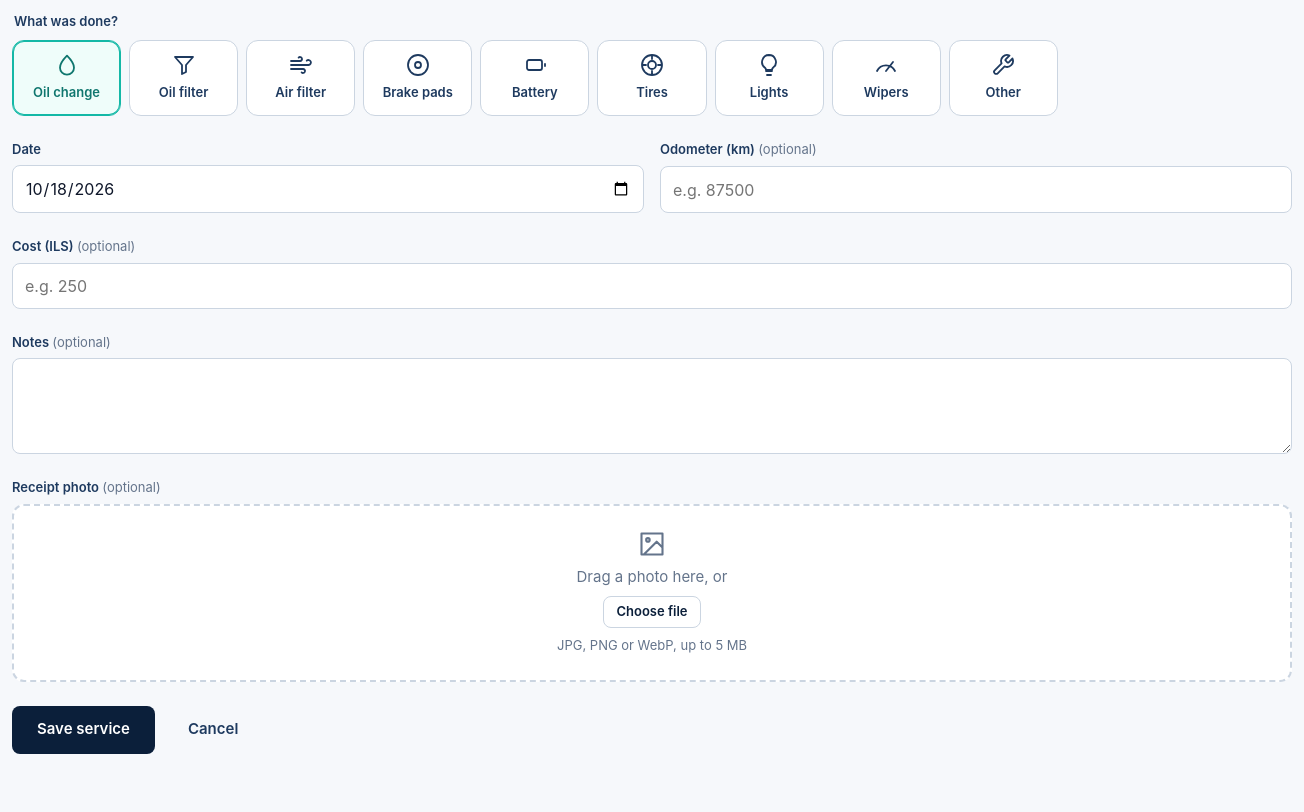
Test case: ServiceForm validation › rejects an absurd odometer and cost
Type "8750000" into the number field labelled "Odometer (km) (optional)" at [976, 190], box [660,166,1292,213]
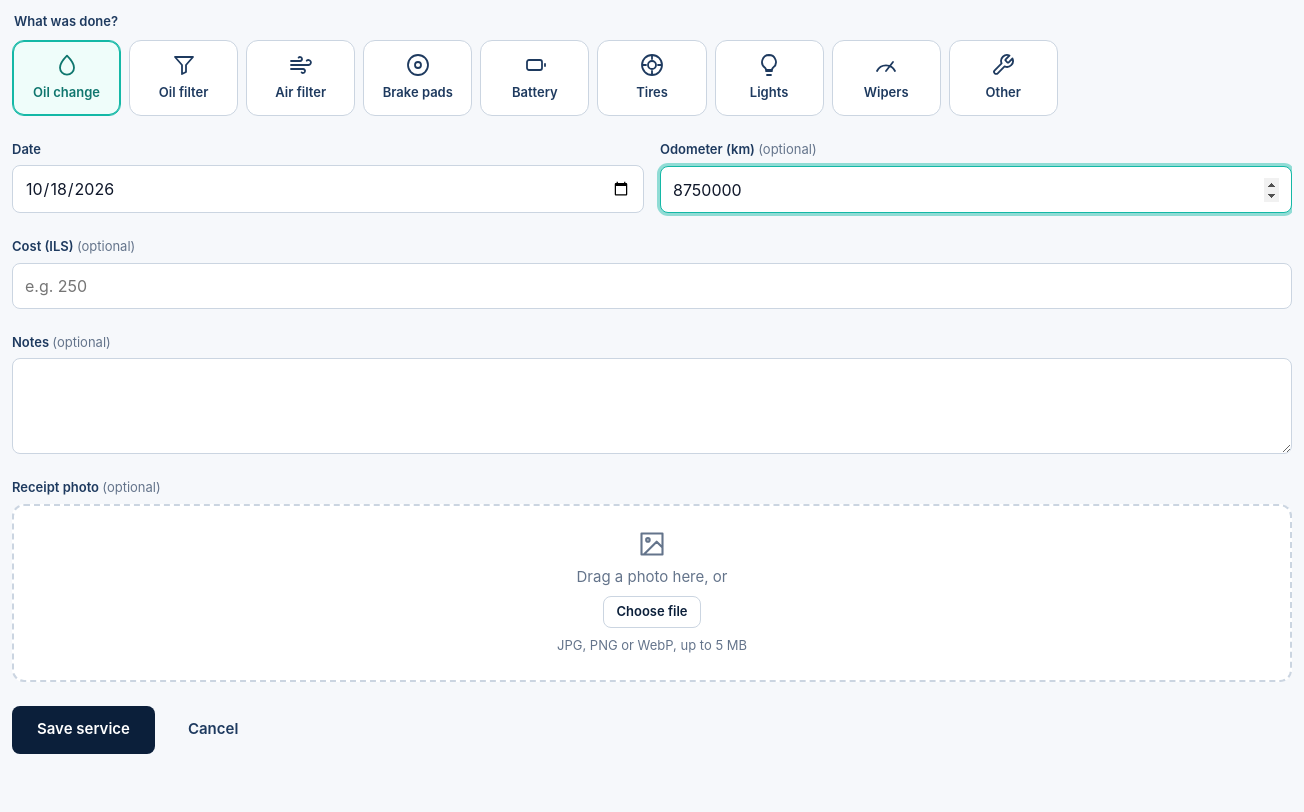
Type "999999999999" into the number field labelled "Cost (ILS) (optional)" at [652, 286], box [12,262,1292,308]
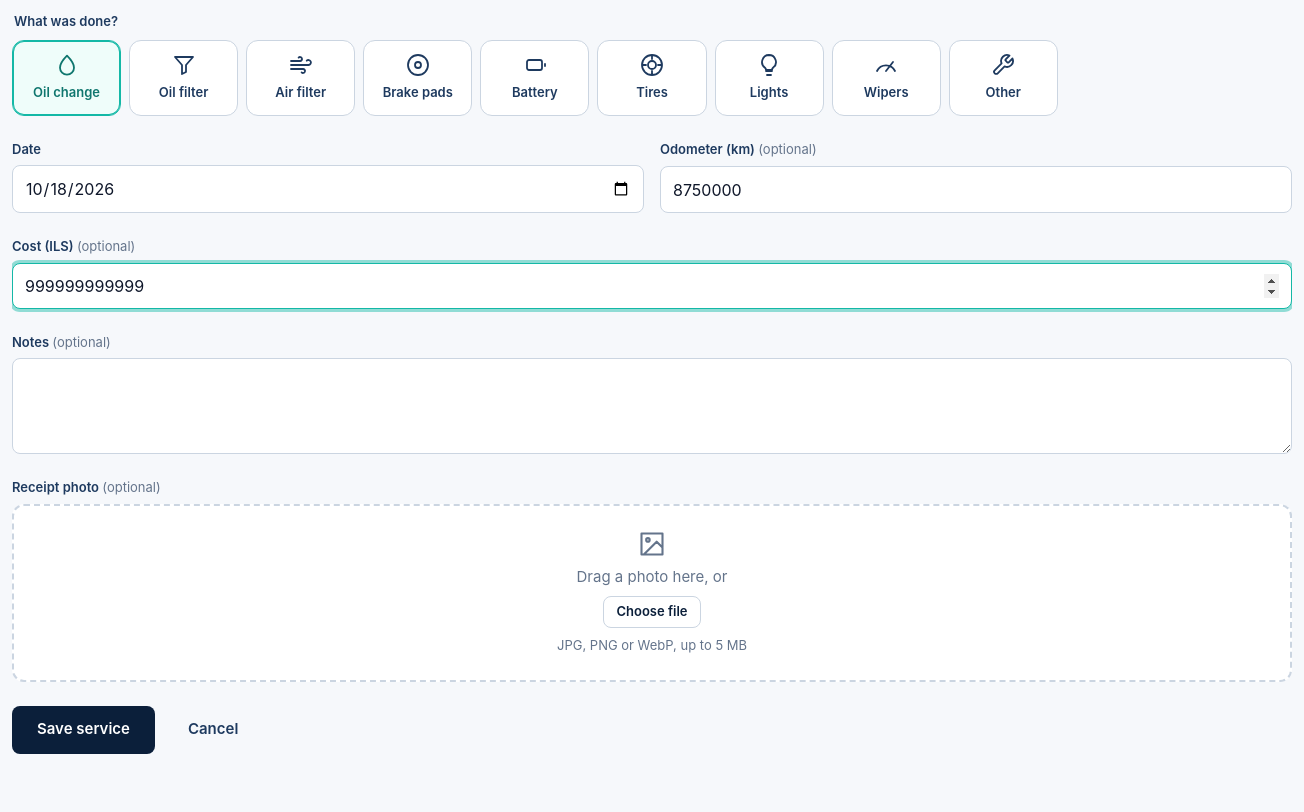
Click the button "Save service" at [83, 730], box [12,706,155,754]
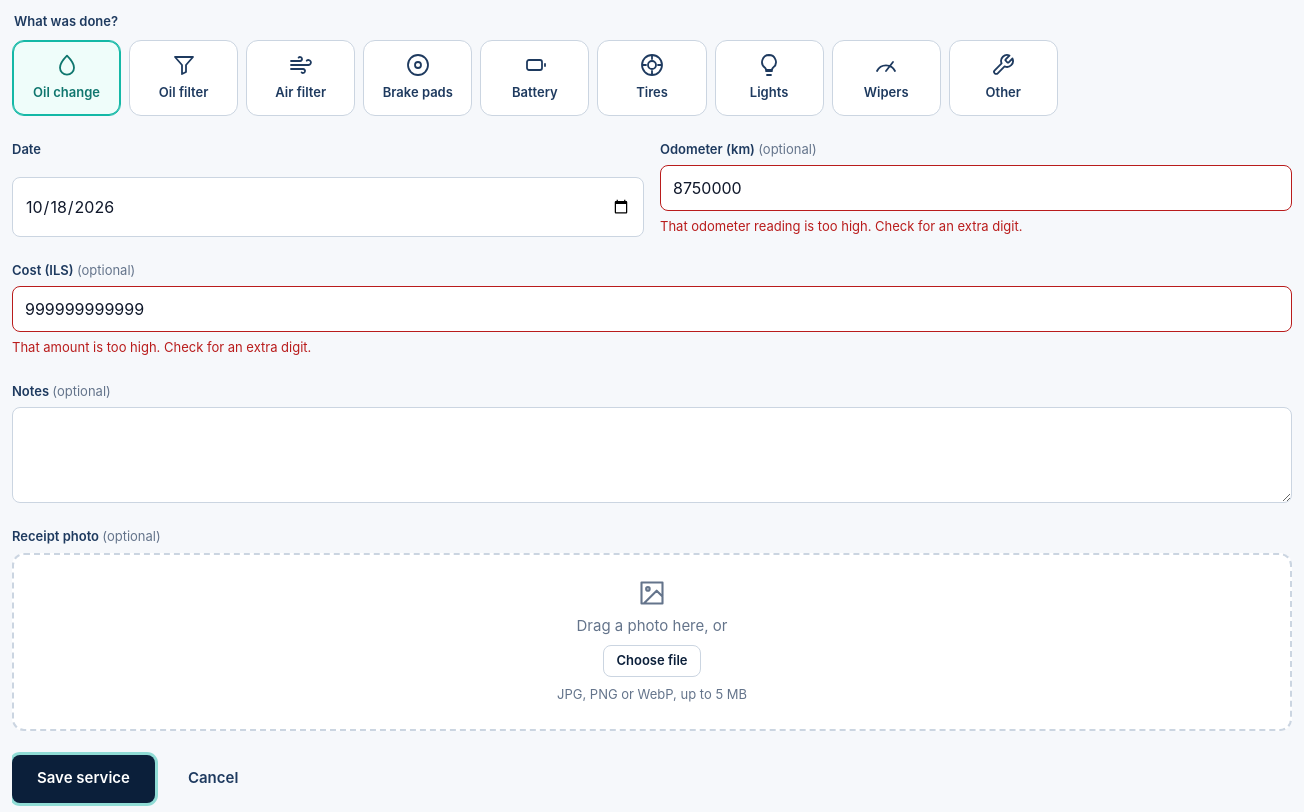
Check: the text "That odometer reading is too high. Check for an extra digit." is shown, box [660,218,1022,234]
Check: the text "That amount is too high. Check for an extra digit." is shown, box [12,339,311,355]
